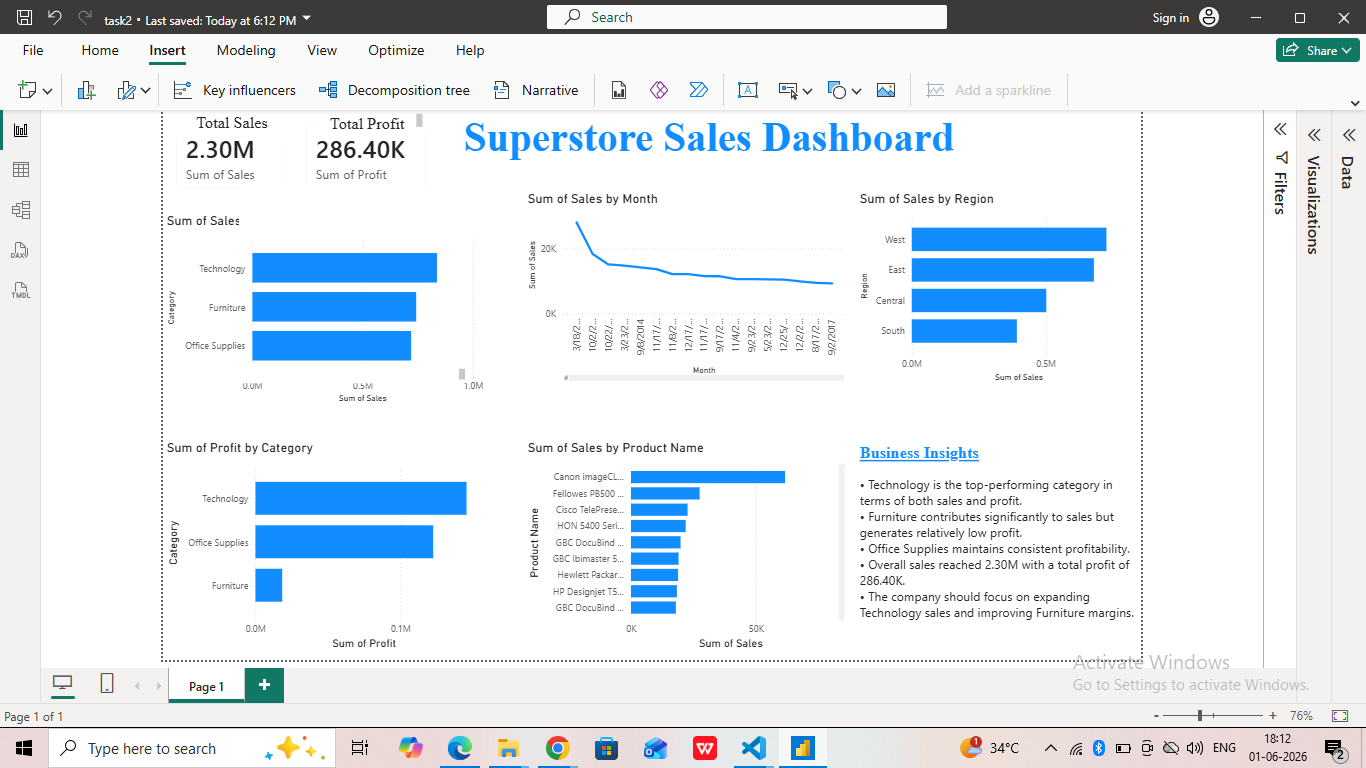

Layout of this report page (visuals, bound fields, positions):
{"tool":"powerbi","page":{"name":"Page 1","canvas":[1280,720],"ordinal":0},"visuals":[{"type":"cardVisual","fields":{"Data":["Sum(Sample - Superstore.Profit)"]},"box":[169.7,0,191.5,120.9],"z":0},{"type":"cardVisual","fields":{"Data":["Sum(Sample - Superstore.Sales)"]},"box":[0,0,181.4,121],"z":1000},{"type":"clusteredBarChart","fields":{"Category":["Sample - Superstore.Category"],"Y":["Sum(Sample - Superstore.Sales)"]},"box":[0,134.4,425,253.6],"z":1001},{"type":"clusteredBarChart","fields":{"Category":["Sample - Superstore.Category"],"Y":["Sum(Sample - Superstore.Profit)"]},"box":[0,431.7,425,278.8],"z":1002},{"type":"lineChart","fields":{"Category":["Sample - Superstore.Month"],"Y":["Sum(Sample - Superstore.Sales)"]},"box":[472,105.8,425,253.6],"z":1003},{"type":"barChart","fields":{"Category":["Sample - Superstore.Region"],"Y":["Sum(Sample - Superstore.Sales)"]},"box":[907,106,373,254],"z":1004},{"type":"barChart","fields":{"Category":["Sample - Superstore.Product Name"],"Y":["Sum(Sample - Superstore.Sales)"]},"box":[472,432,425,279],"z":1005},{"type":"textbox","box":[907,432,373,279],"z":1006},{"type":"textbox","box":[99.4,334.1,301,24.5],"z":1007},{"type":"textbox","box":[99.4,99.4,301,64.8],"z":1008},{"type":"textbox","box":[388.8,0,869.8,80.6],"z":1009},{"type":"textbox","box":[10.1,0,159.8,40.3],"z":1010},{"type":"textbox","box":[197.3,0,146.9,30.2],"z":1011}]}

Visuals, with their boxes on the page's 1280x720 design canvas (x1, y1, x2, y2). These are canvas units, not pixel positions in the 1366x768 screenshot, which may show the page scaled, cropped or inside an application window:
cardVisual - Sum(Sample - Superstore.Profit): 170 0 361 121
cardVisual - Sum(Sample - Superstore.Sales): 0 0 181 121
clusteredBarChart - Sample - Superstore.Category x Sum(Sample - Superstore.Sales): 0 134 425 388
clusteredBarChart - Sample - Superstore.Category x Sum(Sample - Superstore.Profit): 0 432 425 710
lineChart - Sample - Superstore.Month x Sum(Sample - Superstore.Sales): 472 106 897 359
barChart - Sample - Superstore.Region x Sum(Sample - Superstore.Sales): 907 106 1280 360
barChart - Sample - Superstore.Product Name x Sum(Sample - Superstore.Sales): 472 432 897 711
textbox: 907 432 1280 711
textbox: 99 334 400 359
textbox: 99 99 400 164
textbox: 389 0 1259 81
textbox: 10 0 170 40
textbox: 197 0 344 30
